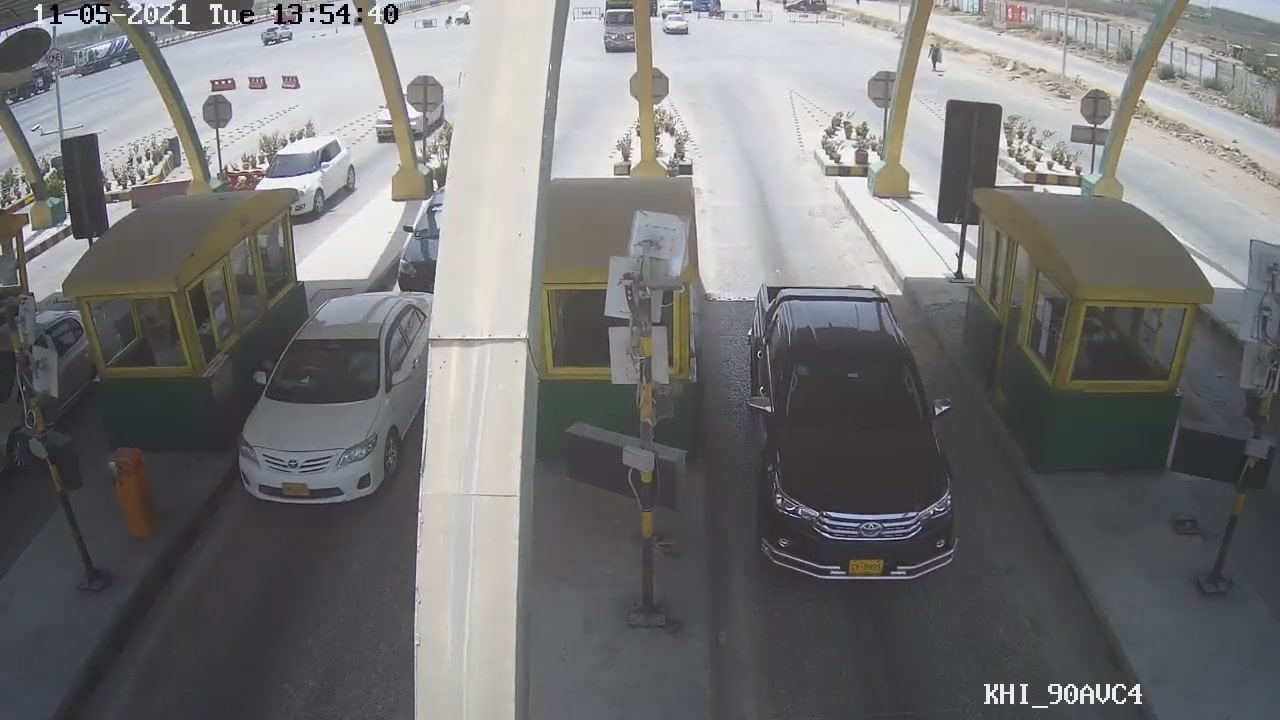F1: (739, 270, 970, 591)
